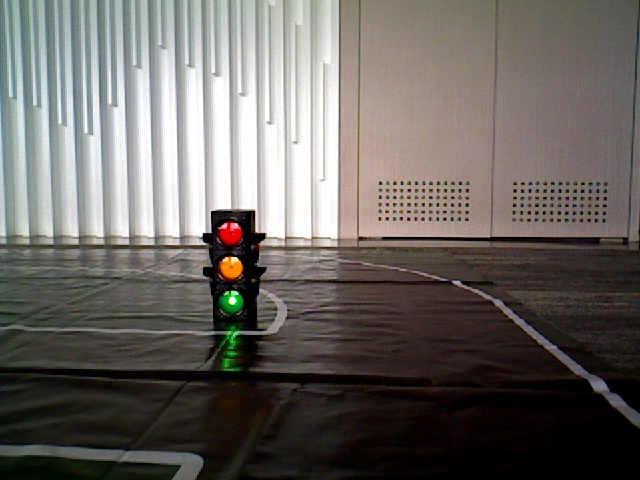green: (209, 214, 250, 323)
